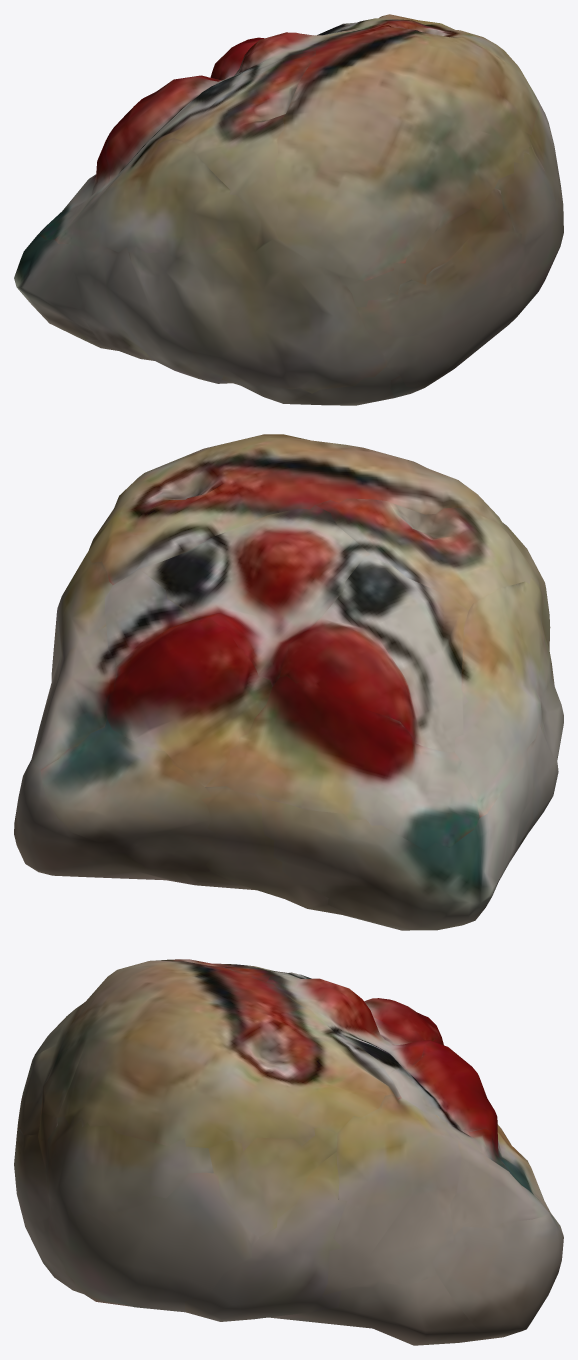
The model's file is hall.glb.
3 views of the same model, one above another, from view 1: azimuth 30°, elevation 25°; view 2: azimuth 150°, elevation 25°; view 3: azimuth 270°, elevation 25° (orthographic). The views are drawn at different scales.
Bounding box in the file's own units: 0.3958 × 0.2657 × 0.4059.
1 material, 1 textured.
